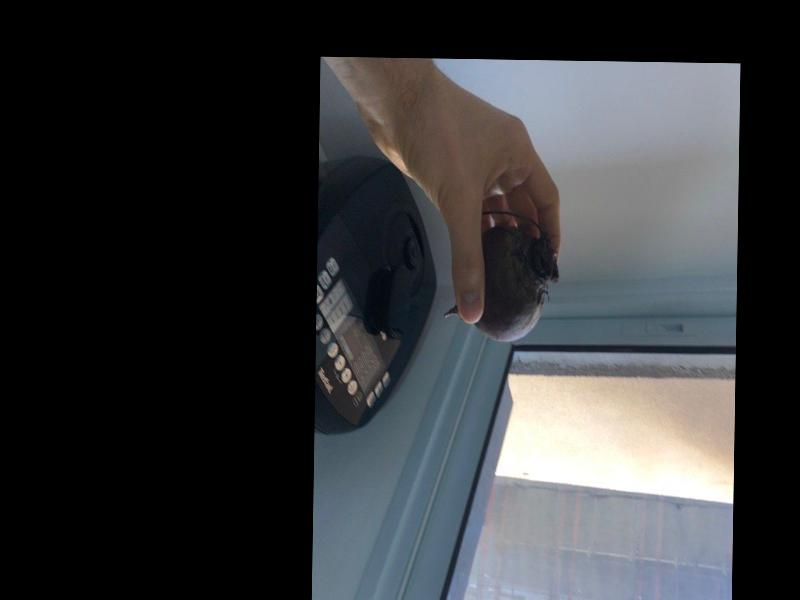Beet: (444, 212, 559, 342)
